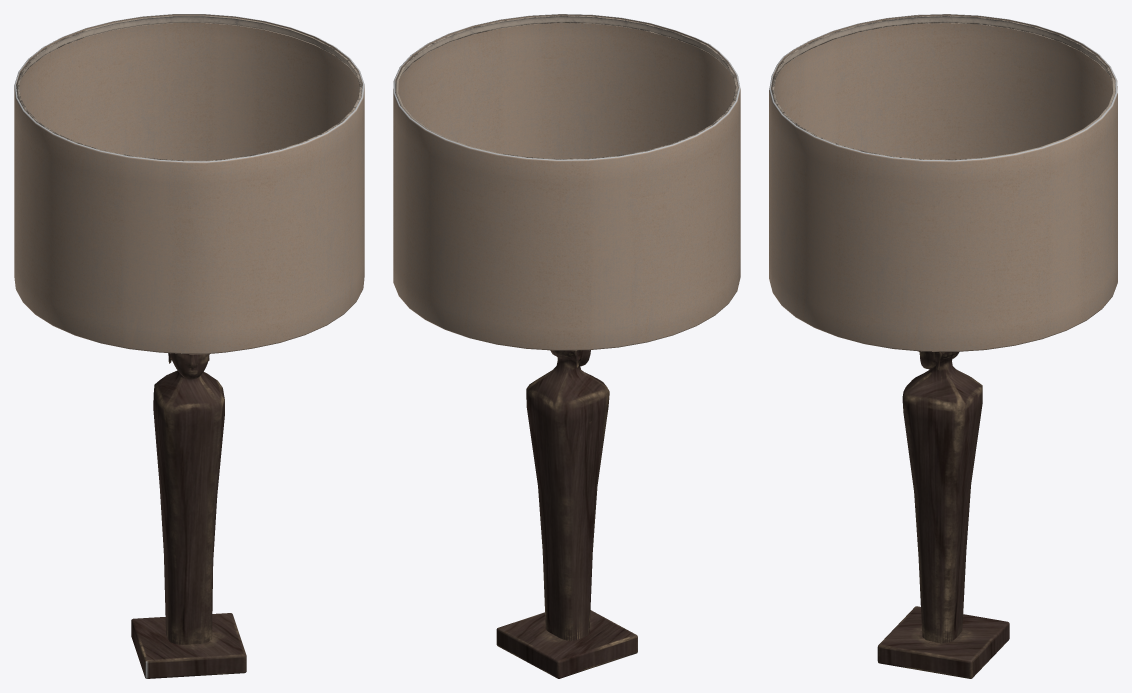
The model's file is rustic_desklamp.glb.
3 views of the same model, side by side, from view 1: azimuth 30°, elevation 25°; view 2: azimuth 150°, elevation 25°; view 3: azimuth 270°, elevation 25° (orthographic).
Parts seen in each view (by area): view 1: defaultMaterial, 1_low, Box018; view 2: defaultMaterial, 1_low, Box018; view 3: defaultMaterial, 1_low, Box018.
Part boxes in pixels (box(x1,y1,x2,y2)): defaultMaterial: box(14, 14, 364, 354); 1_low: box(153, 353, 224, 644); Box018: box(131, 613, 246, 678); defaultMaterial: box(393, 14, 740, 350); 1_low: box(526, 350, 609, 640); Box018: box(496, 610, 637, 678); defaultMaterial: box(769, 14, 1117, 351); 1_low: box(902, 351, 982, 643); Box018: box(877, 606, 1009, 678).
Size of the model in its own units: 1.38 by 2.47 by 1.38.
Materials: 1 (1 with a texture image).
